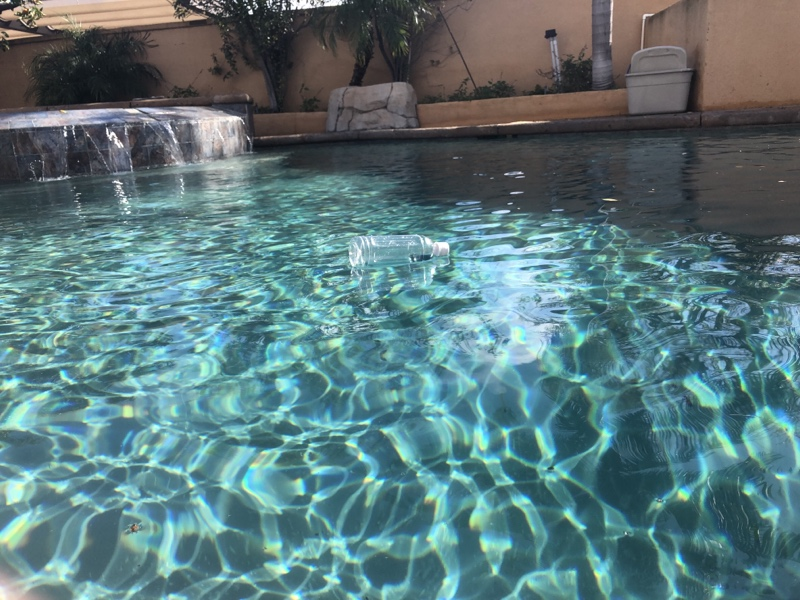Plastic Bottle: (347, 231, 451, 270)
